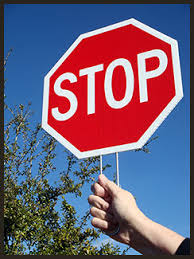Stop: (44, 24, 181, 147)
